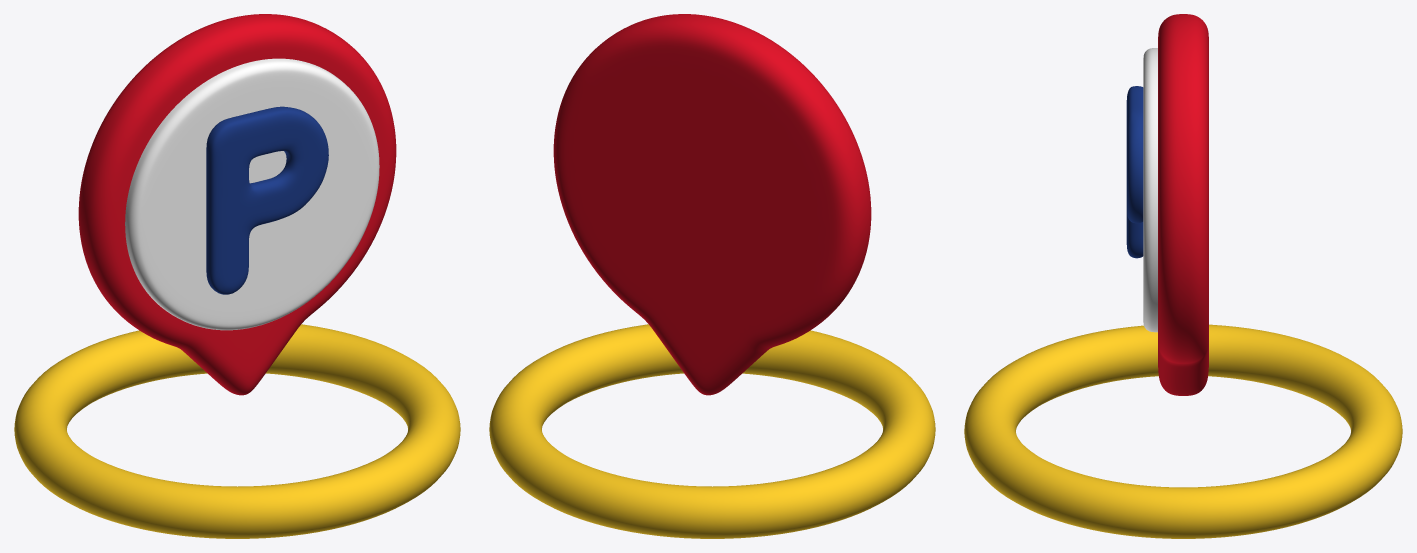
Rendered from parking_marker.fbx.
The picture shows the model from 3 angles, left to right: view 1: azimuth 30°, elevation 25°; view 2: azimuth 150°, elevation 25°; view 3: azimuth 270°, elevation 25°; orthographic projection.
Visible parts, largest first — view 1: Torus.007, Cylinder.009, Circle.008, Curve.007; view 2: Circle.008, Torus.007; view 3: Torus.007, Circle.008, Cylinder.009, Curve.007.
Boxes of the visible parts, x1,y1,x2,y2 form: Torus.007: [14, 324, 460, 538]; Cylinder.009: [125, 58, 379, 330]; Circle.008: [78, 14, 396, 395]; Curve.007: [206, 106, 328, 294]; Circle.008: [553, 14, 871, 395]; Torus.007: [489, 324, 935, 538]; Torus.007: [964, 324, 1402, 538]; Circle.008: [1158, 14, 1208, 395]; Cylinder.009: [1143, 48, 1157, 332]; Curve.007: [1126, 86, 1143, 258].
Size of the model in its own units: 429 by 459 by 429.
